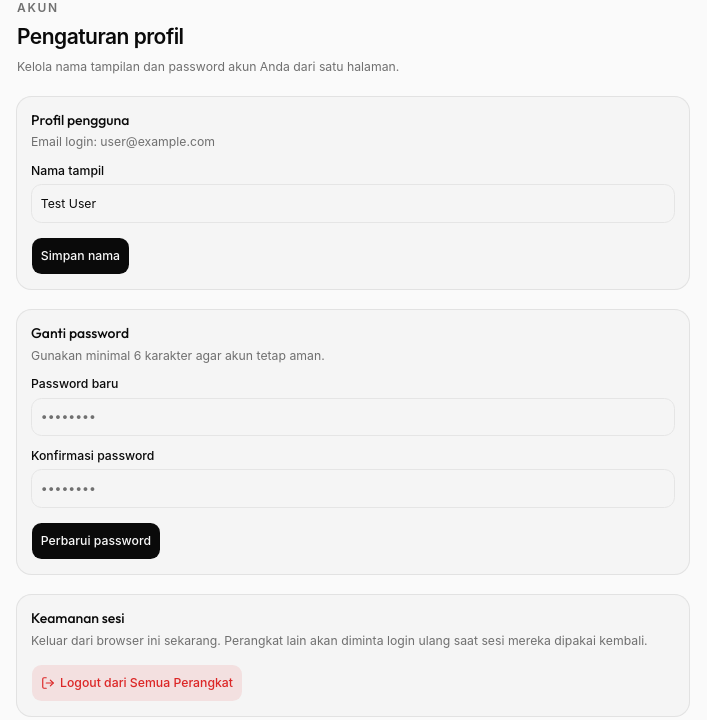
Test case: AccountPage logout all sessions › shows an inline error when the API fails
Click the button "Logout dari Semua Perangkat": [137, 683] box [31,664,243,702]
(page scrolled)
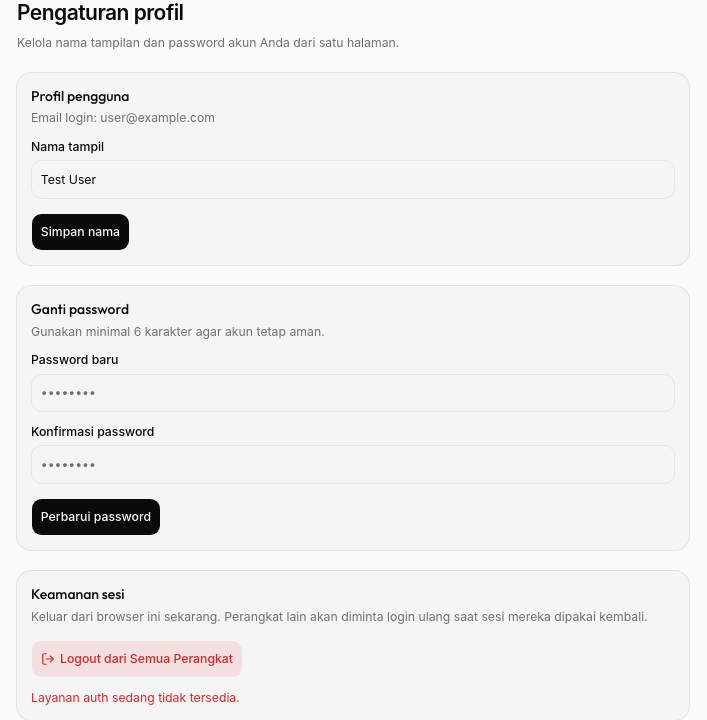
Expected: the text "Layanan auth sedang tidak tersedia." is shown, [31,690,240,704]
